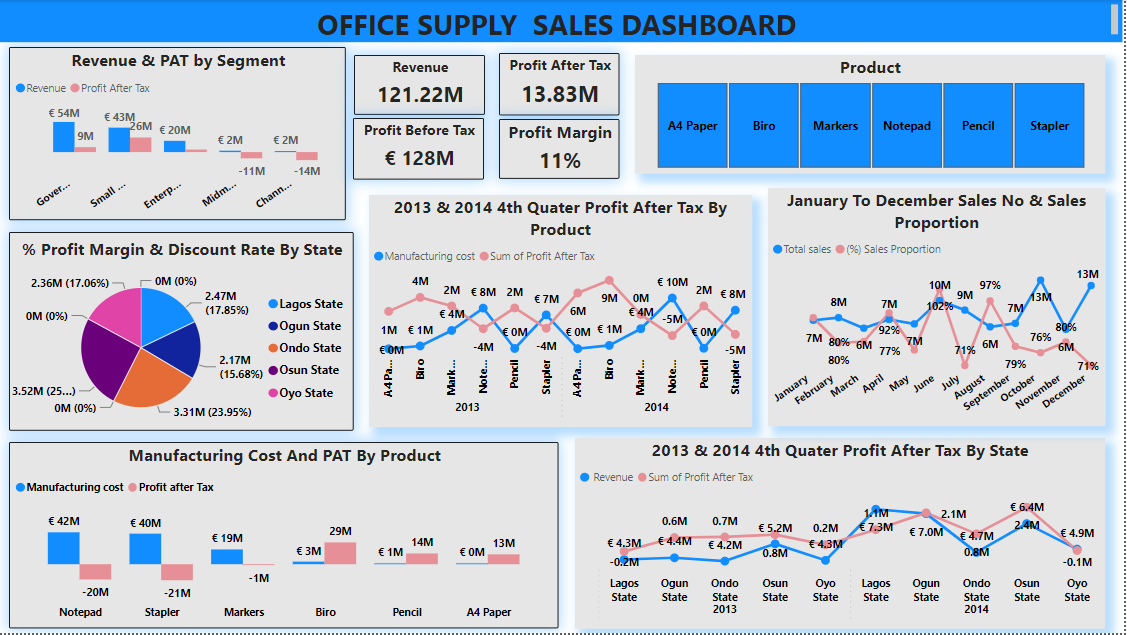

Layout of this report page (visuals, bound fields, positions):
{"tool":"powerbi","page":{"name":"Page 1","canvas":[1280,720],"ordinal":0},"visuals":[{"type":"clusteredColumnChart","title":"Revenue & PAT by Segment","fields":{"Category":["financials3.Segment"],"Y":["Sum(financials3.Revenue)","Sum(financials3.Profit After Tax)"]},"box":[12.8,53.9,376.2,195.1],"z":0},{"type":"clusteredColumnChart","title":"Manufacturing Cost And PAT By Product","fields":{"Category":["financials3.Product"],"Y":["Sum(financials3.Manufacturing cost)","Sum(financials3.Profit After Tax)"]},"box":[12.8,503.3,625.2,211.8],"z":1000},{"type":"pieChart","title":"% Profit Margin & Discount Rate By State","fields":{"Category":["financials3.State"],"Y":["CountNonNull(financials3.Product)","financials3.Total profit after Tax"]},"box":[12.8,273.5,391.6,217],"z":2000},{"type":"card","title":"Revenue","fields":{"Values":["financials3.Total Revenue"]},"box":[404.4,62.9,148.9,68],"z":3000},{"type":"textbox","box":[0,0,1279.5,47.7],"z":4000},{"type":"card","title":"Profit After Tax","fields":{"Values":["financials3.Total profit after Tax"]},"box":[570,60.3,137.4,70.6],"z":5000},{"type":"card","title":"Profit Before Tax","fields":{"Values":["Sum(financials3.Gross Sales)"]},"box":[403.8,134,149.1,69.8],"z":6000},{"type":"card","title":"Profit Margin","fields":{"Values":["financials3.% Profit Margin"]},"box":[570,134.8,137.4,68],"z":7000},{"type":"lineChart","title":"2013 & 2014 4th Quater Profit After Tax By Product","fields":{"Category":["Calendar.Year","financials3.Product"],"Y":["Sum(financials3.Manufacturing cost)"],"Y2":["Sum(financials3.Profit After Tax)"]},"box":[422.4,214.4,435.2,270.9],"z":8000},{"type":"lineChart","title":"2013 & 2014 4th Quater Profit After Tax By State","fields":{"Category":["Calendar.Year","financials3.State"],"Y":["Sum(financials3.Revenue)"],"Y2":["Sum(financials3.Profit After Tax)"]},"box":[656,498.1,603.4,217],"z":9000},{"type":"slicer","title":" Product","fields":{"Values":["financials3.Product"]},"box":[724.1,62.9,535.4,134.8],"z":10000},{"type":"lineChart","title":"January To December Sales No & Sales Proportion","fields":{"Y":["financials3.Total sales"],"Y2":["financials3.(%) Sales Proportion"],"Category":["Calendar.month"]},"box":[875.6,214.4,383.9,270.9],"z":12000}]}

Visuals, with their boxes in screenshot pixels (x1, y1, x2, y2), scaled from the page's 1280x720 canvas onto the 1127x635 screenshot:
"Revenue & PAT by Segment" clusteredColumnChart: bbox=[11, 48, 343, 220]
"Manufacturing Cost And PAT By Product" clusteredColumnChart: bbox=[11, 444, 562, 631]
"% Profit Margin & Discount Rate By State" pieChart: bbox=[11, 241, 356, 433]
"Revenue" card: bbox=[356, 55, 487, 115]
textbox: bbox=[0, 0, 1126, 42]
"Profit After Tax" card: bbox=[502, 53, 623, 115]
"Profit Before Tax" card: bbox=[356, 118, 487, 180]
"Profit Margin" card: bbox=[502, 119, 623, 179]
"2013 & 2014 4th Quater Profit After Tax By Product" lineChart: bbox=[372, 189, 755, 428]
"2013 & 2014 4th Quater Profit After Tax By State" lineChart: bbox=[578, 439, 1109, 631]
" Product" slicer: bbox=[638, 55, 1109, 174]
"January To December Sales No & Sales Proportion" lineChart: bbox=[771, 189, 1109, 428]
